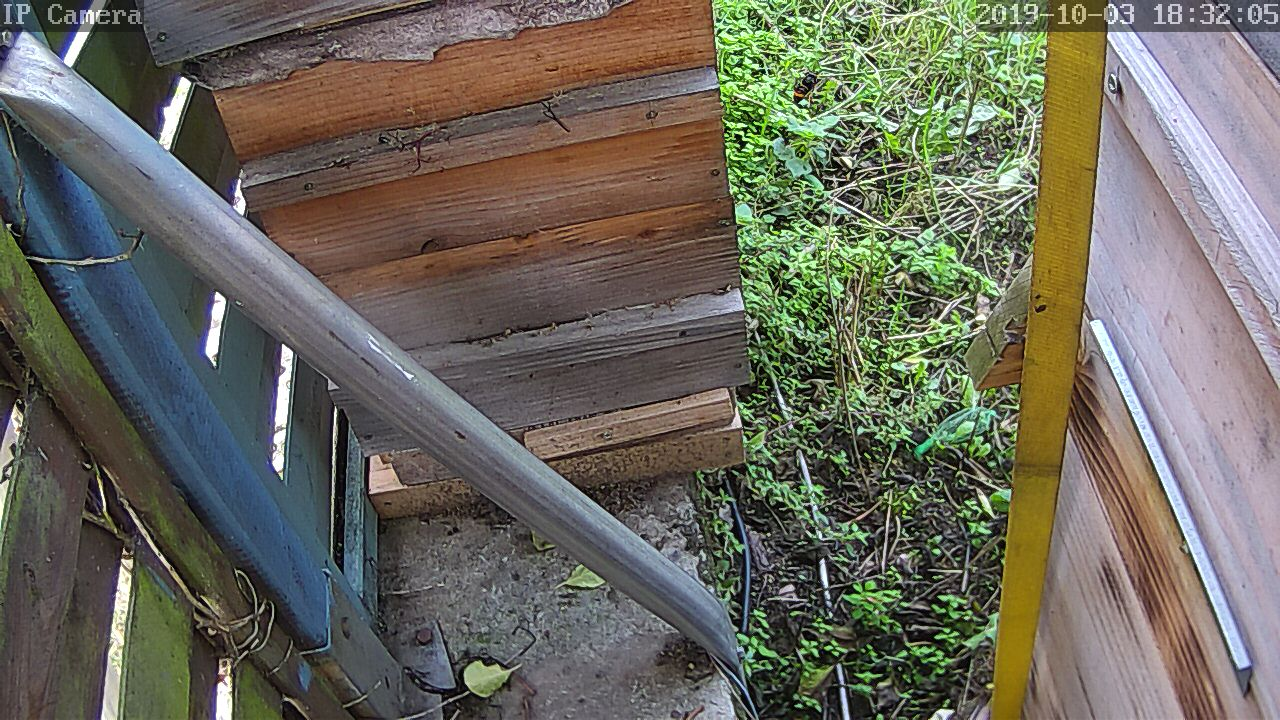hornet: (796, 68, 827, 109), (1000, 326, 1026, 370)
